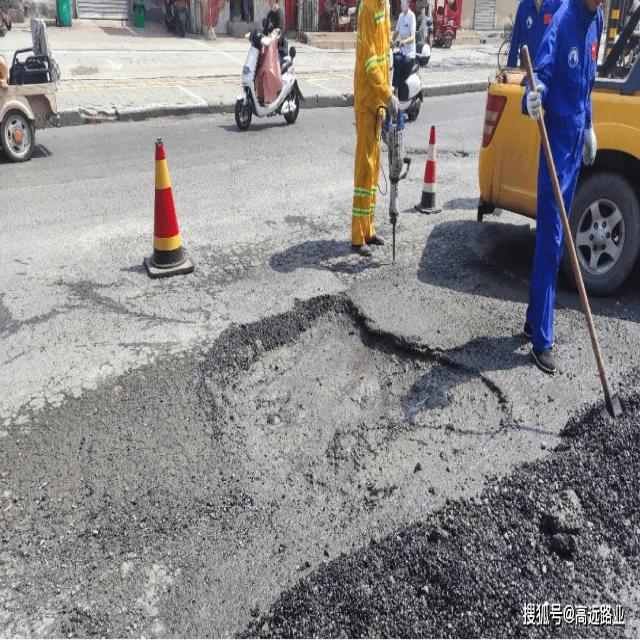Pothole: (201, 292, 510, 525)
